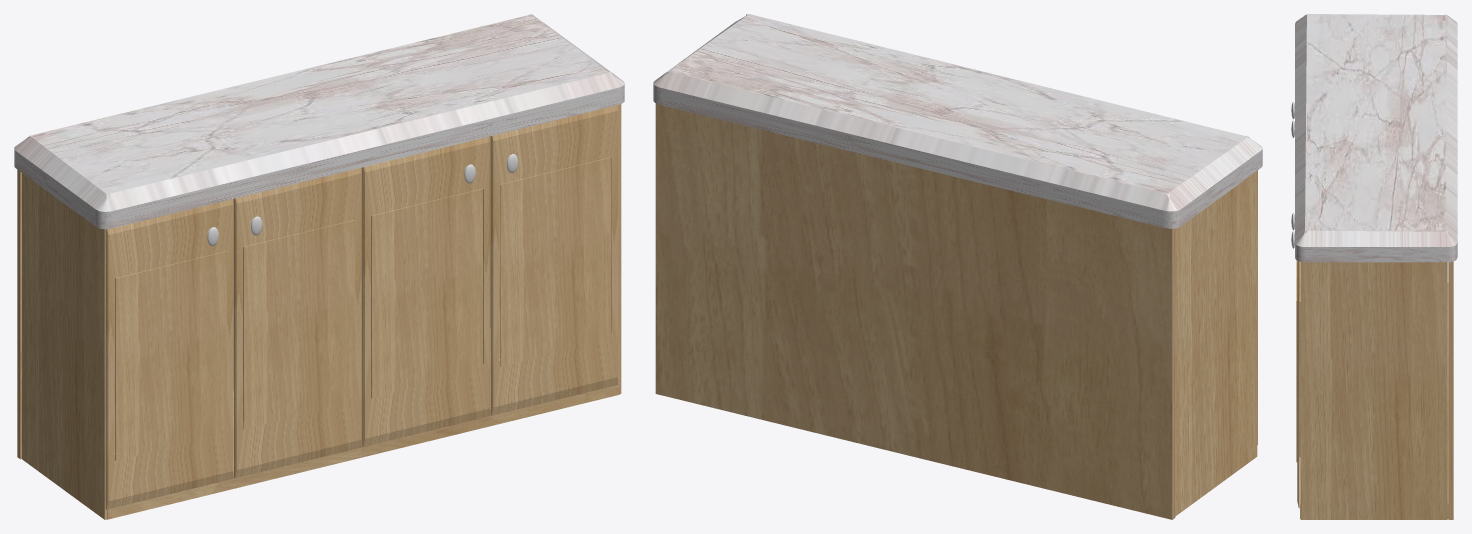
File: longcabinet 1.FBX
The picture shows the model from 3 angles, left to right: view 1: azimuth 30°, elevation 25°; view 2: azimuth 150°, elevation 25°; view 3: azimuth 270°, elevation 25°; orthographic projection. The views are drawn at different scales.
Parts seen in each view (by area): view 1: Back, tableTop, handle1; view 2: Back, tableTop; view 3: Back, tableTop, handle1.
Part boxes in pixels (<box>): Back: <box>17,104,621,519</box>; tableTop: <box>14,14,624,229</box>; handle1: <box>207,154,518,246</box>; Back: <box>655,103,1257,519</box>; tableTop: <box>653,14,1262,228</box>; Back: <box>1296,260,1453,519</box>; tableTop: <box>1295,14,1457,262</box>; handle1: <box>1291,102,1294,248</box>.
Bounding box in the file's own units: 1507 × 878 × 464.
2 materials, 2 textured.
